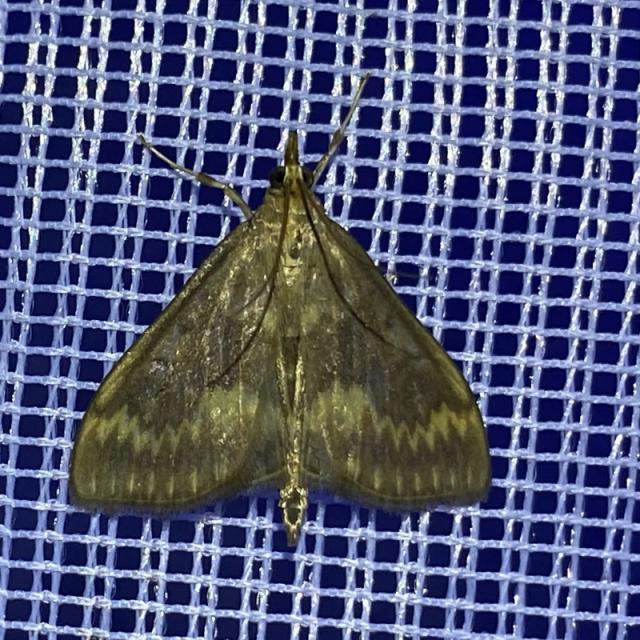cornborer-Adult-: (68, 67, 501, 540)
